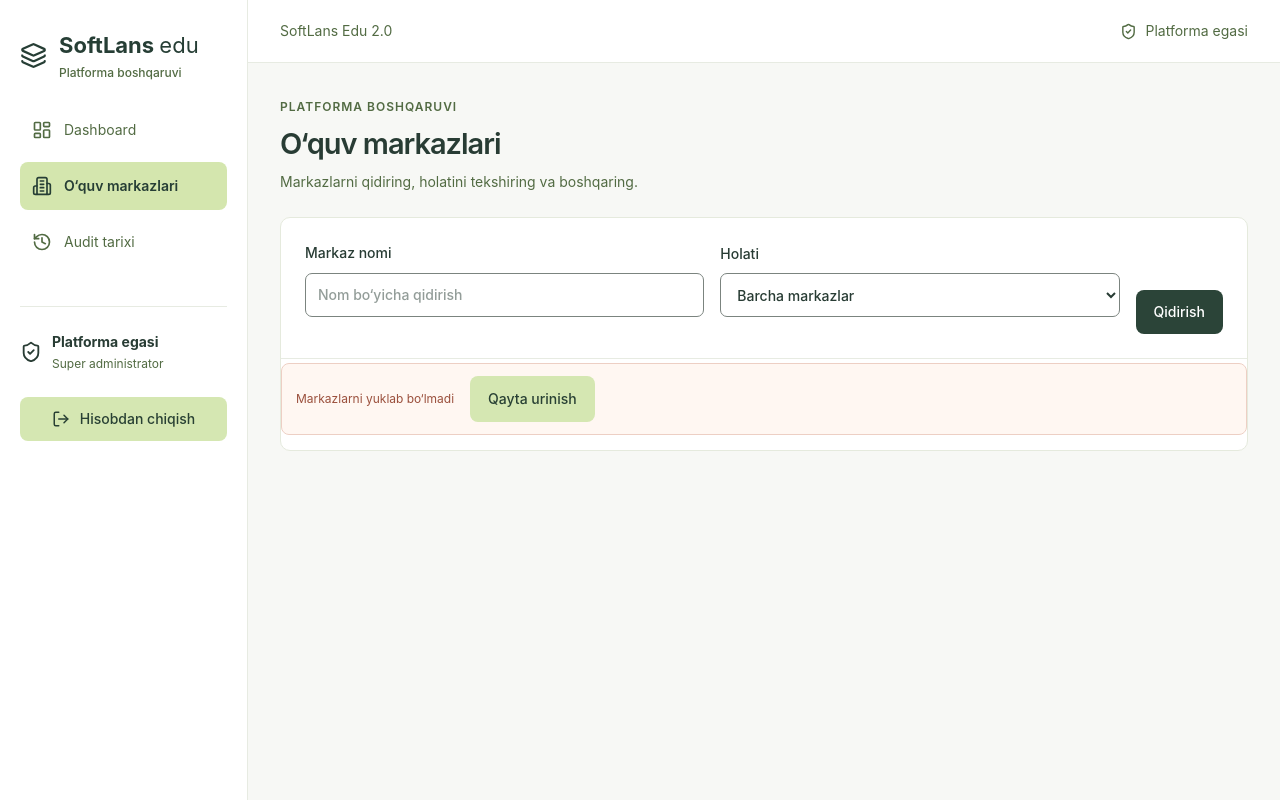
Test: offers retry after a failed list load and distinguishes an empty platform
Expected: the message shows "Markazlarni yuklab bo‘lmadi", [296,391,454,406]
Click the button "Qayta urinish".
click(532, 399)  # box [470,376,595,422]
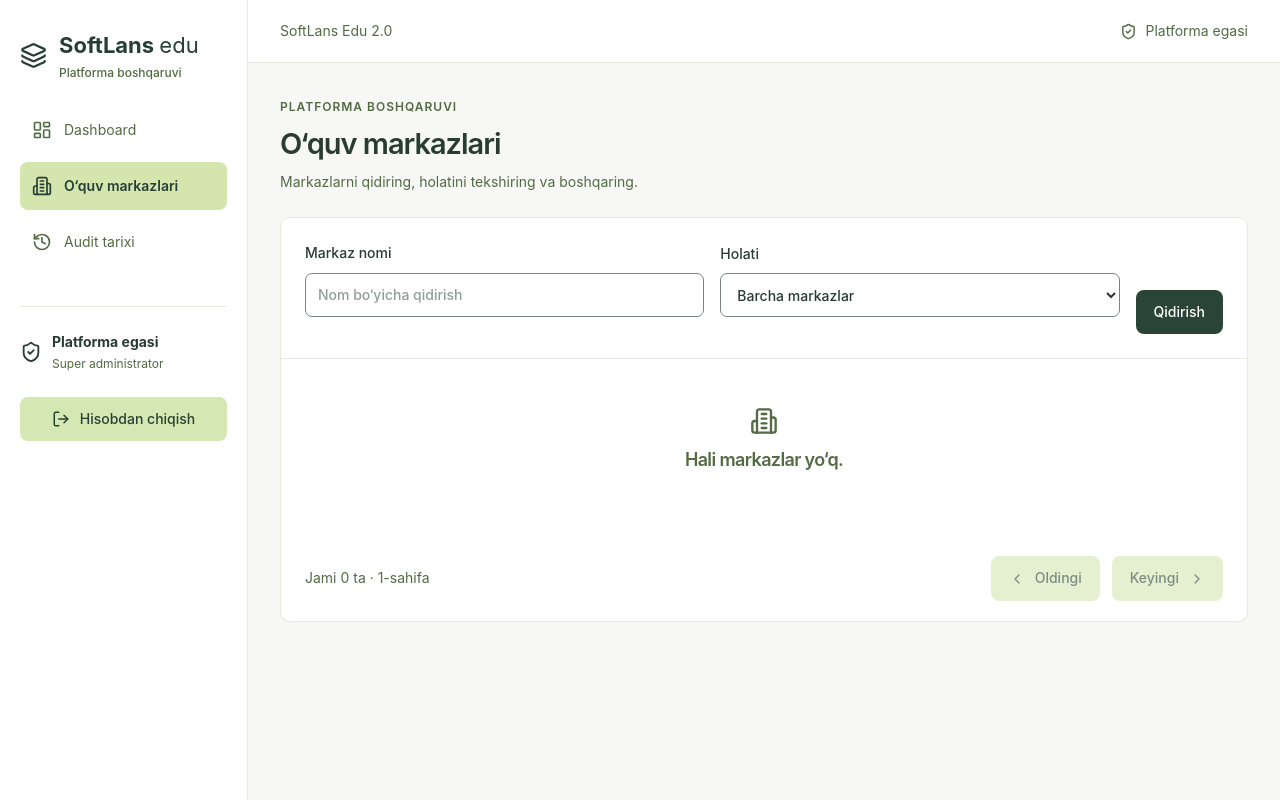
Now the heading "Hali markazlar yo‘q." is shown, box [685,449,843,470]
